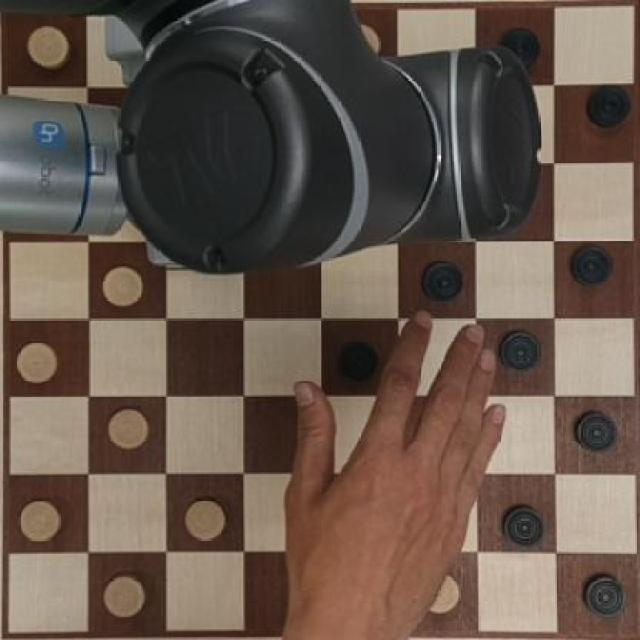black: (563, 238, 622, 300), (561, 405, 623, 460), (578, 77, 629, 139), (416, 254, 474, 307), (330, 328, 380, 388), (578, 563, 626, 618), (498, 501, 544, 545), (499, 329, 542, 371)
white: (97, 563, 150, 625), (96, 256, 146, 321), (16, 17, 74, 73), (99, 402, 153, 456), (179, 488, 229, 546), (16, 494, 67, 550), (10, 336, 62, 388)
